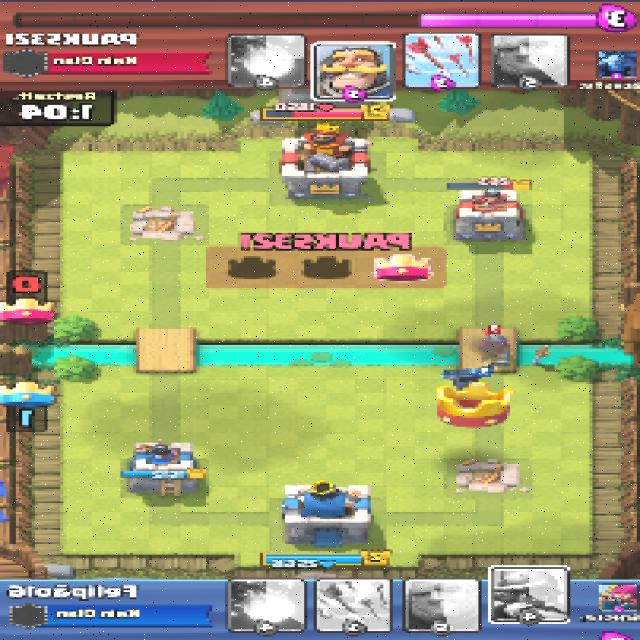Enemy-Musketeer: (474, 333, 519, 366)
Player-MiniPEKKA: (440, 372, 494, 391)
